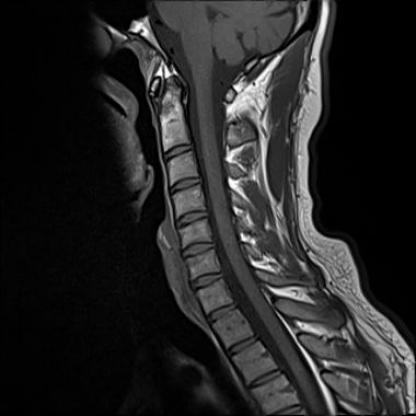Degenerative Disc Diseaserotation: (180, 241, 217, 257)
Disc Bulgerotation: (180, 241, 216, 257)
